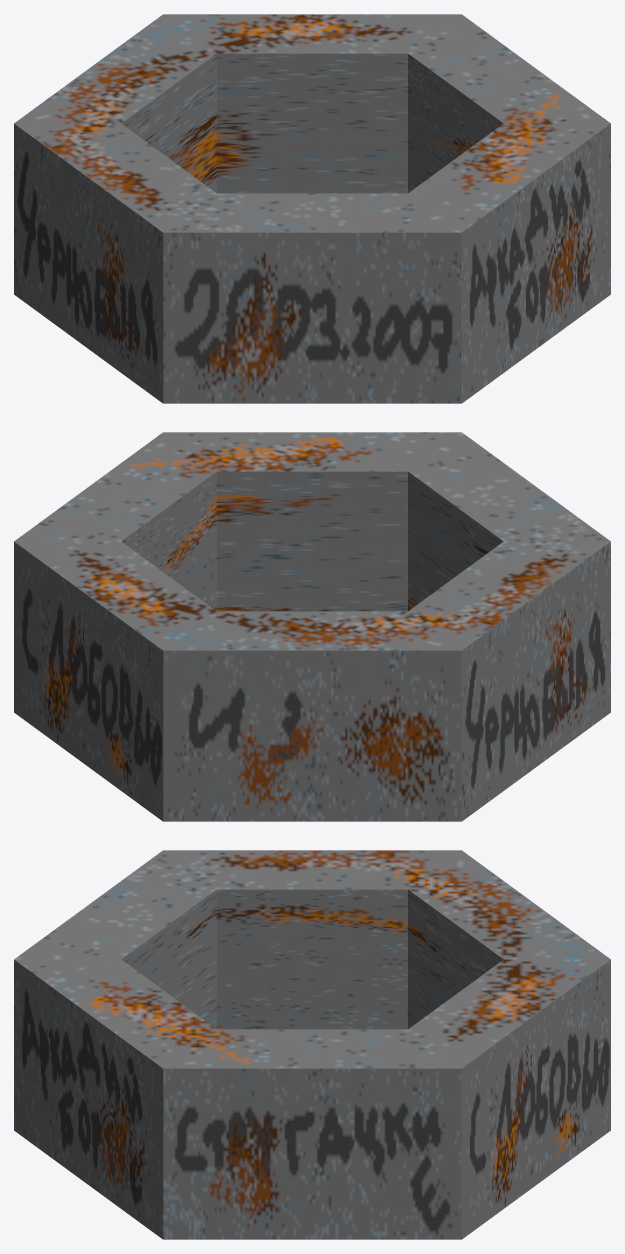
The model's file is souvenir.glb.
The picture shows the model from 3 angles, top to bottom: view 1: azimuth 30°, elevation 25°; view 2: azimuth 150°, elevation 25°; view 3: azimuth 270°, elevation 25°; orthographic projection.
Parts seen in each view (by area): view 1: Cylinder; view 2: Cylinder; view 3: Cylinder.
Boxes of the visible parts, left/top/right/bottom form: Cylinder: left=14, top=14, right=610, bottom=403; Cylinder: left=14, top=432, right=610, bottom=821; Cylinder: left=14, top=850, right=610, bottom=1239.
Size of the model in its own units: 0.2198 by 0.0802 by 0.2538.
1 material, 1 textured.
